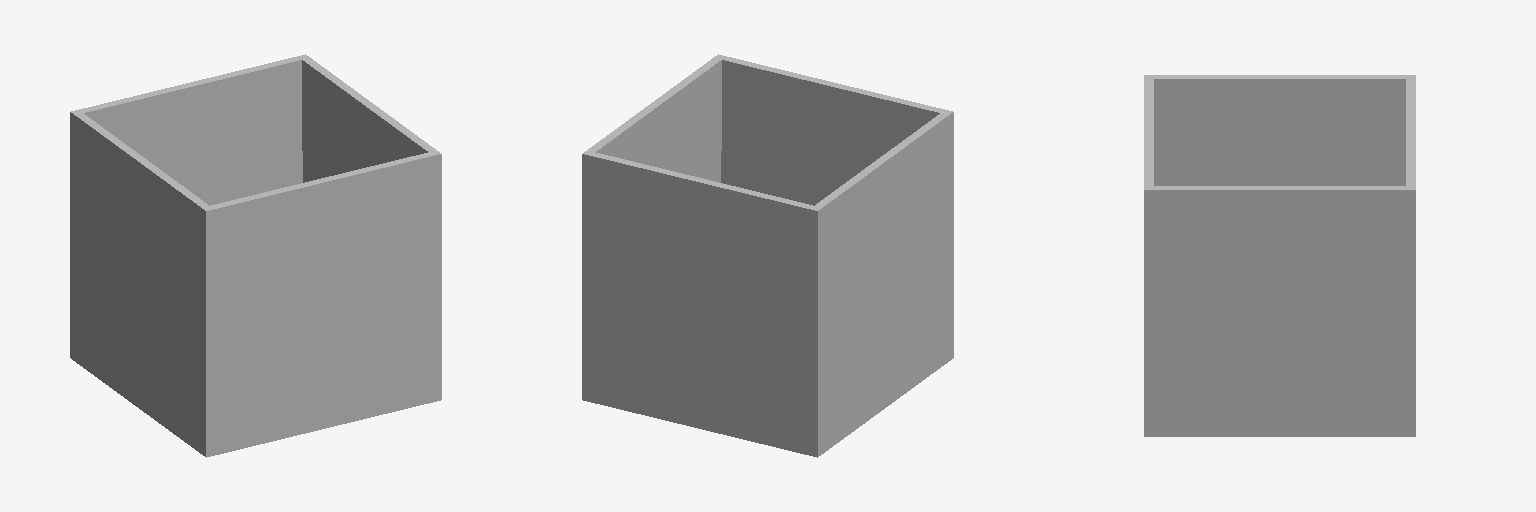
Rendered from Box vide_light_above.obj.
The picture shows the model from 3 angles: view 1: azimuth 30°, elevation 25°; view 2: azimuth 150°, elevation 25°; view 3: azimuth 270°, elevation 25°; orthographic projection.
Parts seen in each view (by area): view 1: Cube; view 2: Cube; view 3: Cube.
Boxes of the visible parts, box(x1,y1,x2,y2) form: Cube: box(70, 54, 441, 457); Cube: box(582, 54, 953, 457); Cube: box(1144, 75, 1415, 436).
Bounding box in the file's own units: 50 × 50 × 50.